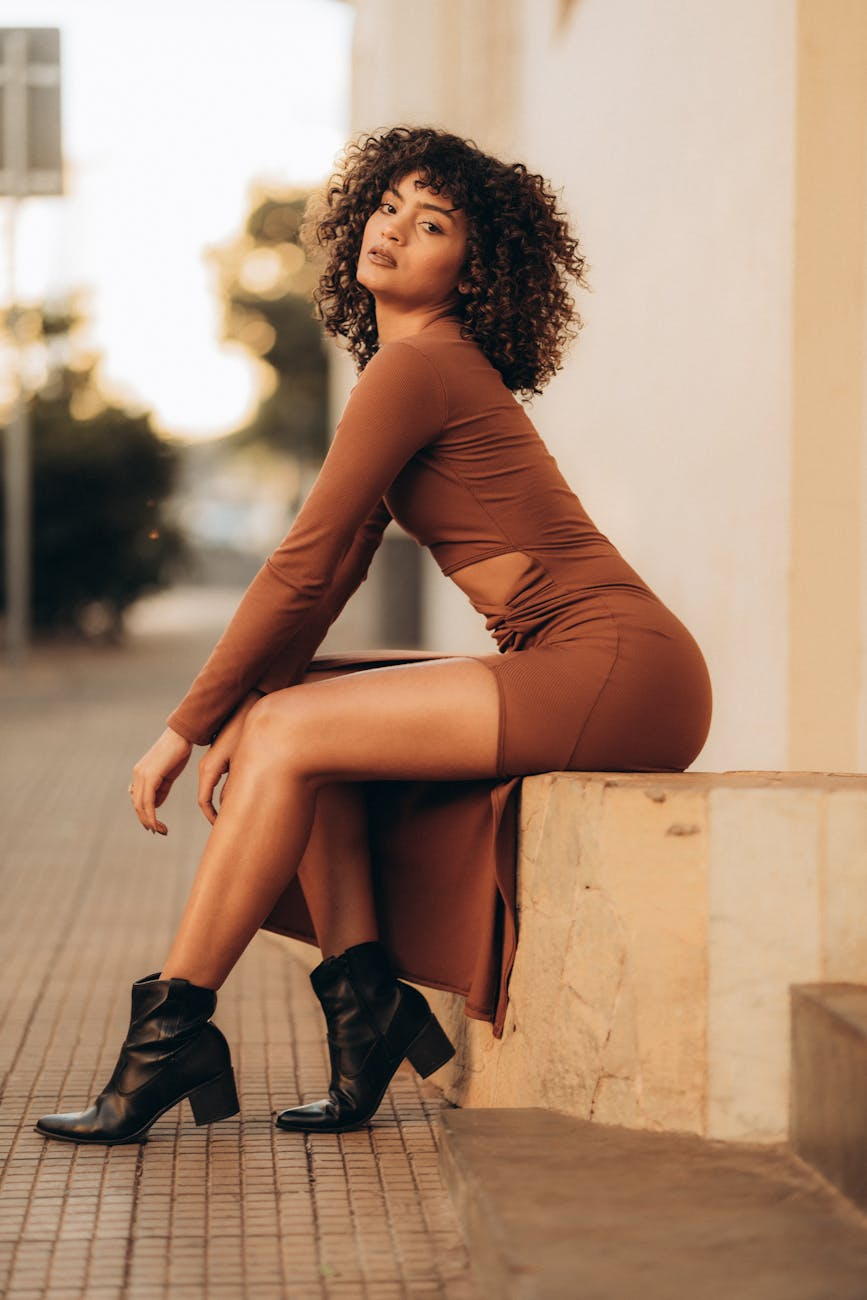crop_top: (346, 324, 562, 577)
short_medium_skirt: (451, 579, 728, 772)
